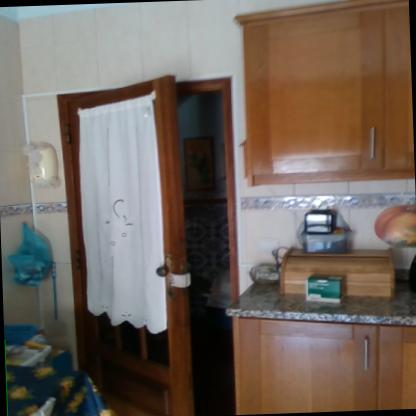closed: (238, 0, 409, 188)
semi: (57, 74, 257, 413)
